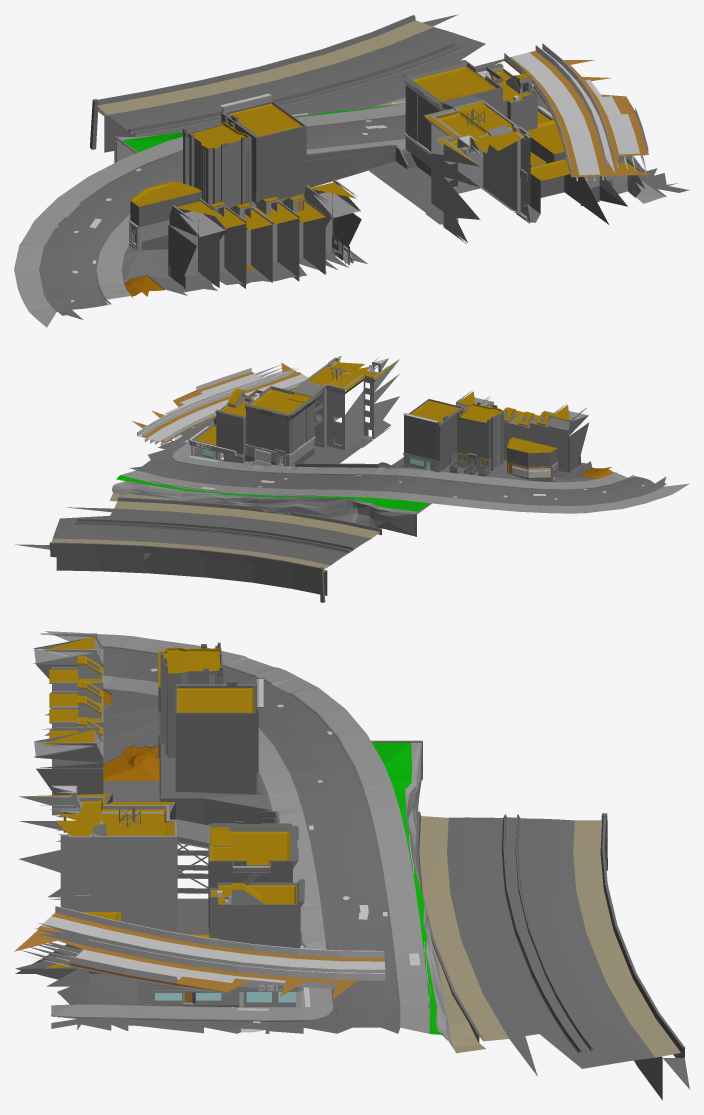
The model's file is brook_n2_2.FBX.
3 renders of one model, top to bottom at view 1: azimuth 30°, elevation 25°; view 2: azimuth 150°, elevation 25°; view 3: azimuth 270°, elevation 25°, orthographic. The views are drawn at different scales.
Visible parts, largest first — view 1: unnamed; view 2: unnamed; view 3: unnamed.
Part boxes in pixels (x1=…): unnamed: x1=14, y1=14, x2=689, y2=327; unnamed: x1=15, y1=356, x2=689, y2=602; unnamed: x1=14, y1=631, x2=689, y2=1100.
Bounding box in the file's own units: 178 × 44.64 × 129.
